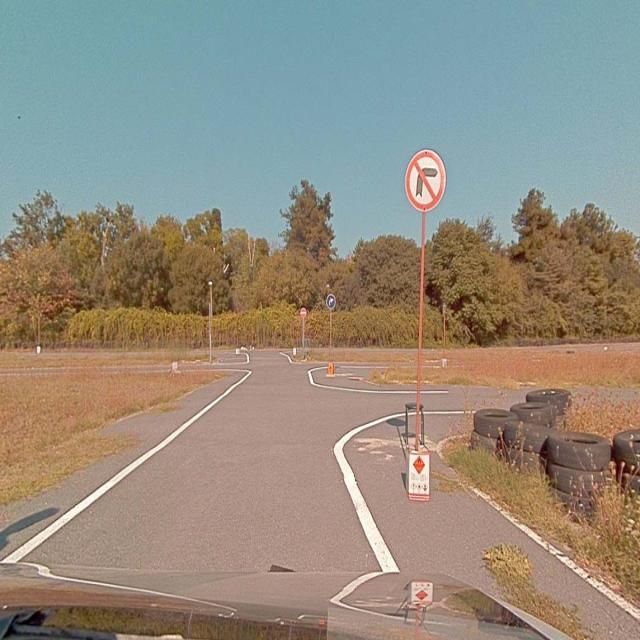girisyok: (300, 307, 306, 318)
sag: (326, 295, 336, 309)
sagadonulmez: (405, 149, 445, 211)
